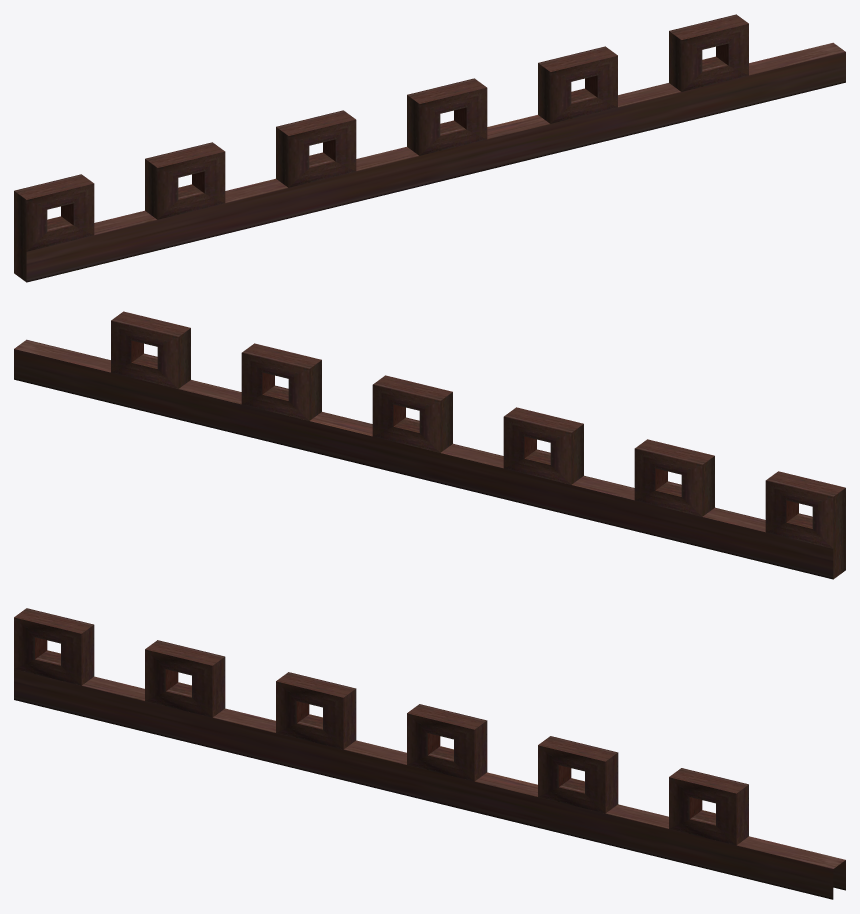
3 renders of one model, top to bottom at view 1: azimuth 30°, elevation 25°; view 2: azimuth 150°, elevation 25°; view 3: azimuth 330°, elevation 25°, orthographic.
Visible parts, largest first — view 1: polySurface650; view 2: polySurface650; view 3: polySurface650.
Boxes of the visible parts, x1,y1,x2,y2 form: polySurface650: (14,14,845,282); polySurface650: (14,311,845,579); polySurface650: (14,608,845,899).
Size of the model in its own units: 57.76 by 5.56 by 1.55.
